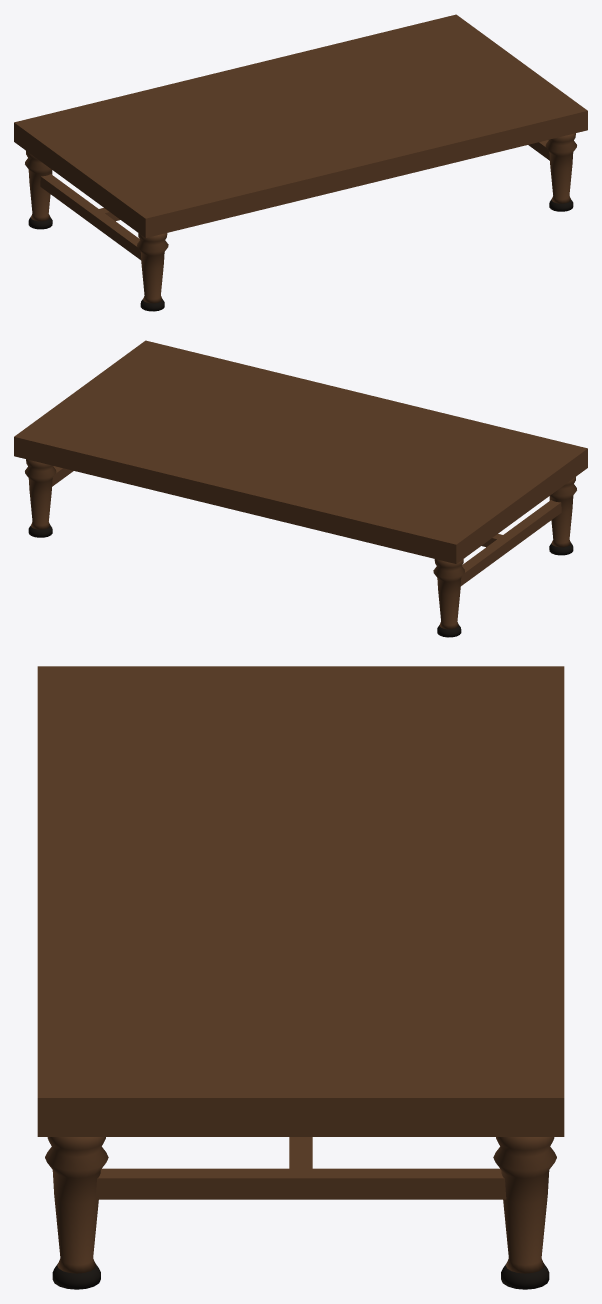
The model's file is legs-pool9ft.glb.
3 renders of one model, top to bottom at view 1: azimuth 30°, elevation 25°; view 2: azimuth 150°, elevation 25°; view 3: azimuth 270°, elevation 25°, orthographic. The views are drawn at different scales.
Visible parts, largest first — view 1: Support_pool9ft, Cross_pool9ft_0.06, Leg_pool9ft_00, Leg_pool9ft_10, Leg_pool9ft_01; view 2: Support_pool9ft, Cross_pool9ft_0.06, Leg_pool9ft_01, Leg_pool9ft_11, Leg_pool9ft_00; view 3: Support_pool9ft, Cross_pool9ft_2.48, Leg_pool9ft_10, Leg_pool9ft_11, Stretcher_pool9ft, Foot_pool9ft_10, Foot_pool9ft_11.
Boxes of the visible parts, x1=… form: Support_pool9ft: x1=14, y1=14, x2=587, y2=237; Cross_pool9ft_0.06: x1=40, y1=174, x2=141, y2=260; Leg_pool9ft_00: x1=137, y1=233, x2=168, y2=303; Leg_pool9ft_10: x1=545, y1=133, x2=576, y2=203; Leg_pool9ft_01: x1=25, y1=151, x2=52, y2=221; Support_pool9ft: x1=14, y1=340, x2=587, y2=563; Cross_pool9ft_0.06: x1=460, y1=500, x2=561, y2=586; Leg_pool9ft_01: x1=433, y1=559, x2=464, y2=629; Leg_pool9ft_11: x1=25, y1=459, x2=56, y2=529; Leg_pool9ft_00: x1=549, y1=477, x2=576, y2=547; Support_pool9ft: x1=37, y1=666, x2=564, y2=1136; Cross_pool9ft_2.48: x1=95, y1=1168, x2=506, y2=1199; Leg_pool9ft_10: x1=45, y1=1137, x2=108, y2=1273; Leg_pool9ft_11: x1=493, y1=1137, x2=556, y2=1273; Stretcher_pool9ft: x1=289, y1=1137, x2=312, y2=1173; Foot_pool9ft_10: x1=52, y1=1263, x2=100, y2=1289; Foot_pool9ft_11: x1=501, y1=1263, x2=549, y2=1289.
Size of the model in its own units: 2.62 by 0.56 by 1.35.
